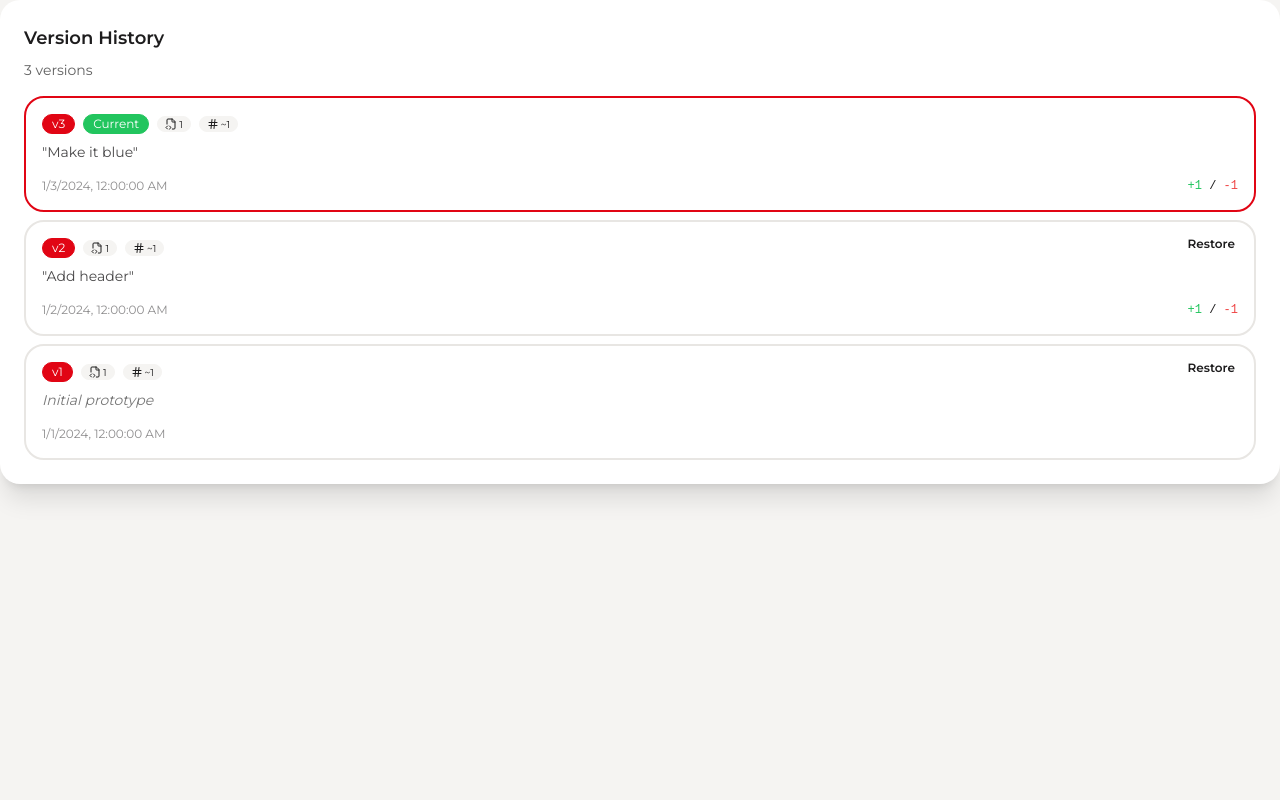
Test: VersionHistoryPanel › cancels restoration when clicking cancel button
# Open confirmation modal
Step 1. Click the 1st button "Restore" → (1211, 244), box [1175,228,1248,260]
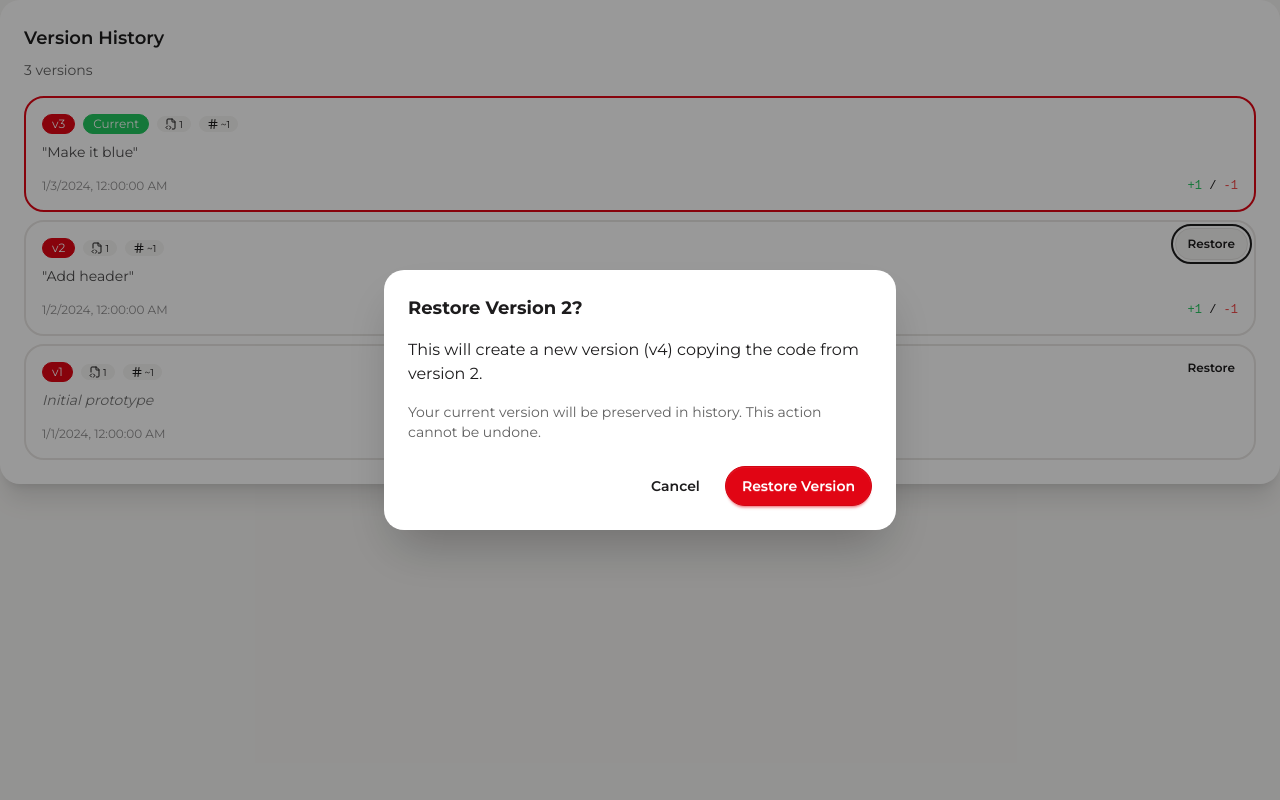
expect the heading "Restore Version 2?" is shown: met, box [408,297,583,319]
# Click "Cancel" button - use getByText with selector
Step 2. Click the button "Cancel" → (675, 486), box [634,466,717,506]
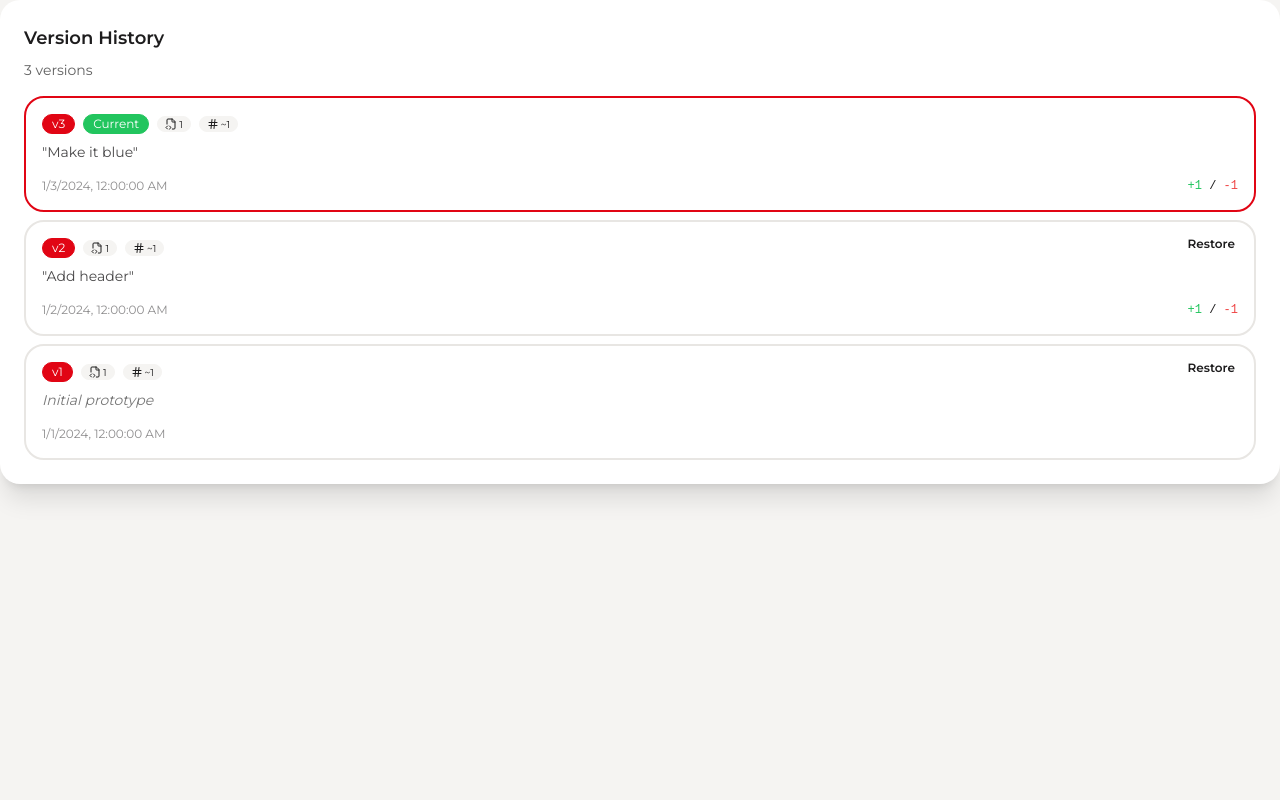
expect the heading "Restore Version 2?" is gone: met
